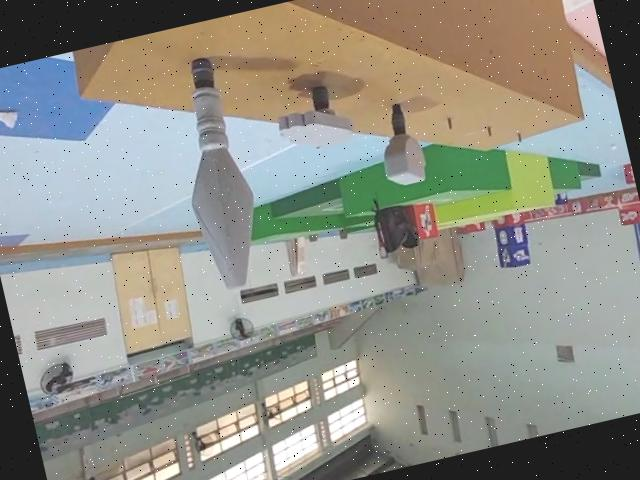Fist: (372, 99, 430, 190)
Hand: (269, 74, 359, 158)
Sph: (157, 43, 277, 297)
